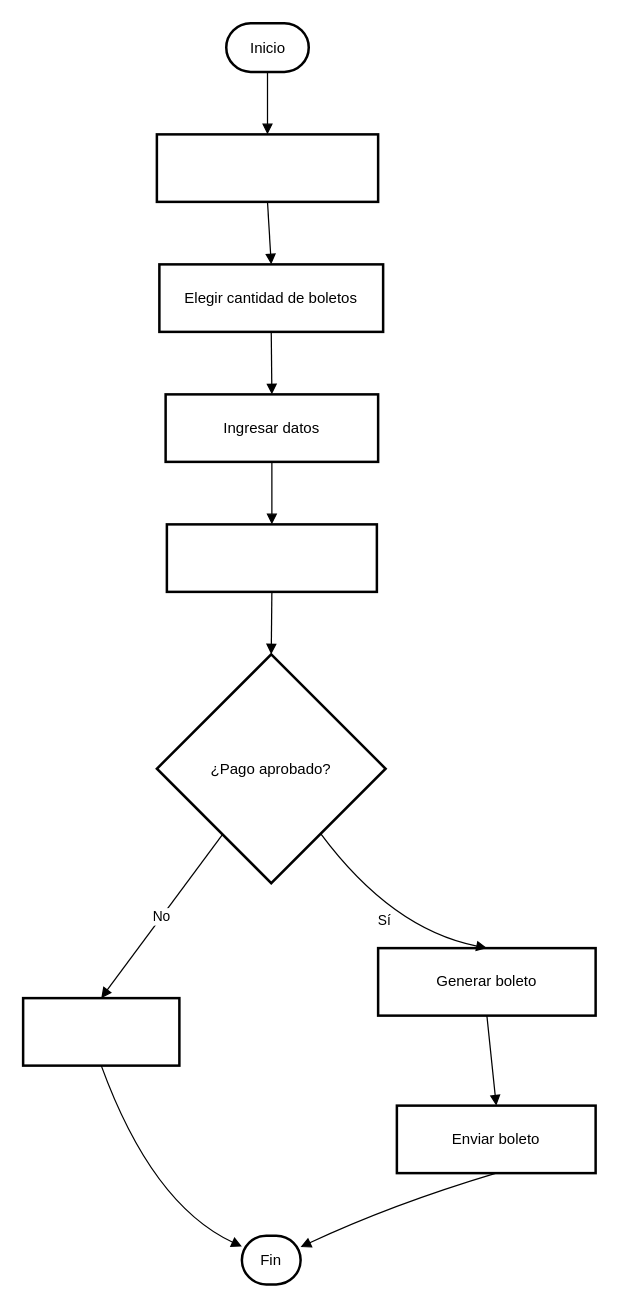
Some shapes in this 618 by 1306 pixel diagram are drawn without their labels. Here are the shapes that lost their labels. From the top down, the centre of each, then its label:
the point at 267,167: Seleccionar evento
the point at 271,557: Procesar pago
the point at 100,1031: Cancelar
